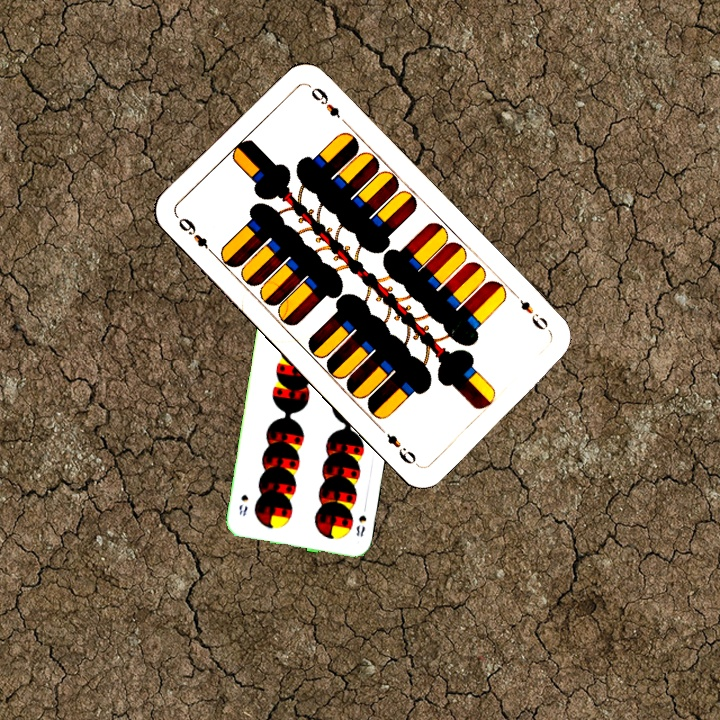E9: (510, 289, 555, 337), (174, 213, 218, 259)
S8: (352, 511, 369, 539)
